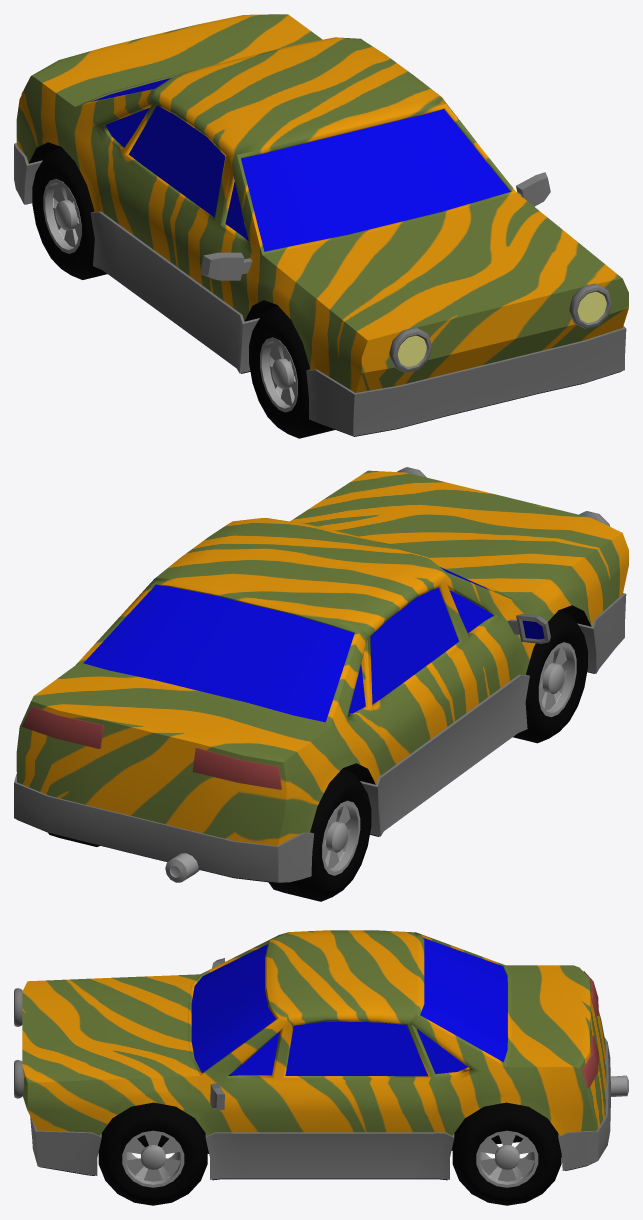
The model's file is Muscle Evolution1 Grey ZebraOrangeKaki Blue LightGrey.glb.
3 renders of one model, top to bottom at view 1: azimuth 30°, elevation 25°; view 2: azimuth 150°, elevation 25°; view 3: azimuth 270°, elevation 25°, orthographic. The views are drawn at different scales.
Visible parts, largest first — view 1: evo1_body4_f1_dupl, evo1_sill0_f1_dupl, evo1_frontGlass_f1_dupl, evo1_glasseBigR_f1_dupl, evo1_tire_rf_f1_dupl, evo1_tire_rf1_f1_dupl, evo1_rim_A_rb_f1_dupl, evo1_rim_A_rf_f1_dupl, evo1_mirorR3_f1_dupl, evo1_blockLightR_f1_dupl, evo1_blockLightL_f1_dupl, evo1_mirorL3_f1_dupl (+4 smaller); view 2: evo1_body4_f1_dupl, evo1_sill0_f1_dupl, evo1_BackGlassGlass_f1_dupl, evo1_glasseBigR_f1_dupl, evo1_tire_rf_f1_dupl, evo1_tire_rf1_f1_dupl, evo1_rim_A_rf_f1_dupl, evo1_rim_A_rb_f1_dupl, evo1_redlightR2_f1_dupl, evo1_redlightL2_f1_dupl, evo1_glassfR_f1_dupl, evo1_pipe1_f1_dupl (+1 smaller); view 3: evo1_body4_f1_dupl, evo1_sill0_f1_dupl, evo1_BackGlassGlass_f1_dupl, evo1_glasseBigL_f1_dupl, evo1_frontGlass_f1_dupl, evo1_tire_lb_f1_dupl, evo1_tire_lf_f1_dupl, evo1_rim_A_lf_f1_dupl, evo1_rim_A_lb_f1_dupl, evo1_glassfL_f1_dupl, evo1_glassbL_f1_dupl, evo1_GroundBody_f1_dupl (+1 smaller).
Part boxes in pixels (x1,y1,x2,y2): evo1_body4_f1_dupl: [16, 14, 628, 392]; evo1_sill0_f1_dupl: [14, 143, 626, 436]; evo1_frontGlass_f1_dupl: [241, 109, 510, 251]; evo1_glasseBigR_f1_dupl: [128, 105, 225, 217]; evo1_tire_rf_f1_dupl: [32, 147, 107, 279]; evo1_tire_rf1_f1_dupl: [249, 306, 334, 438]; evo1_rim_A_rb_f1_dupl: [43, 179, 81, 253]; evo1_rim_A_rf_f1_dupl: [260, 337, 297, 412]; evo1_mirorR3_f1_dupl: [200, 252, 252, 280]; evo1_blockLightR_f1_dupl: [389, 327, 432, 372]; evo1_blockLightL_f1_dupl: [569, 283, 612, 328]; evo1_mirorL3_f1_dupl: [516, 172, 550, 206]; evo1_body4_f1_dupl: [16, 470, 628, 845]; evo1_sill0_f1_dupl: [14, 593, 626, 882]; evo1_BackGlassGlass_f1_dupl: [83, 584, 354, 722]; evo1_glasseBigR_f1_dupl: [370, 587, 458, 704]; evo1_tire_rf_f1_dupl: [268, 769, 371, 901]; evo1_tire_rf1_f1_dupl: [513, 610, 587, 743]; evo1_rim_A_rf_f1_dupl: [538, 642, 576, 717]; evo1_rim_A_rb_f1_dupl: [322, 800, 360, 875]; evo1_redlightR2_f1_dupl: [192, 748, 281, 789]; evo1_redlightL2_f1_dupl: [22, 706, 103, 748]; evo1_glassfR_f1_dupl: [449, 590, 493, 632]; evo1_pipe1_f1_dupl: [165, 853, 199, 882]; evo1_body4_f1_dupl: [22, 930, 606, 1152]; evo1_sill0_f1_dupl: [30, 1037, 610, 1179]; evo1_BackGlassGlass_f1_dupl: [420, 937, 507, 1061]; evo1_glasseBigL_f1_dupl: [285, 1021, 427, 1076]; evo1_frontGlass_f1_dupl: [191, 944, 276, 1073]; evo1_tire_lb_f1_dupl: [452, 1102, 561, 1205]; evo1_tire_lf_f1_dupl: [98, 1102, 207, 1205]; evo1_rim_A_lf_f1_dupl: [122, 1130, 184, 1187]; evo1_rim_A_lb_f1_dupl: [476, 1130, 538, 1187]; evo1_glassfL_f1_dupl: [228, 1032, 279, 1075]; evo1_glassbL_f1_dupl: [416, 1028, 467, 1073]; evo1_GroundBody_f1_dupl: [40, 1140, 594, 1180].
Size of the model in its own units: 177 by 112 by 331.
Materials: 7 (1 with a texture image).
